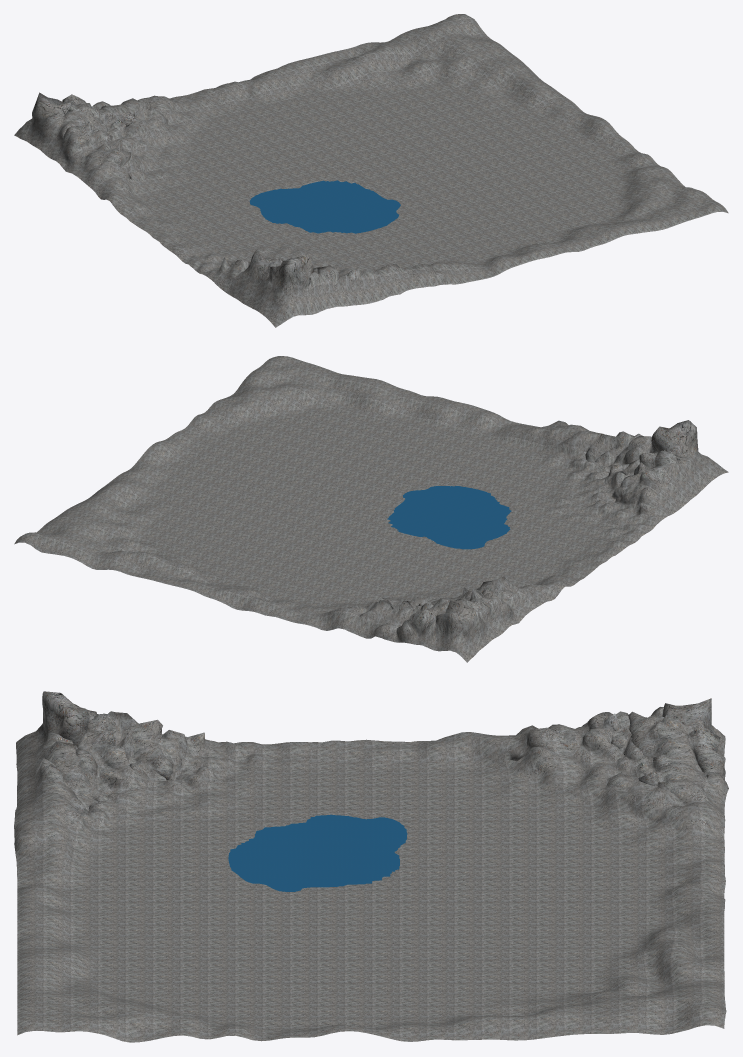
Rendered from ground.obj.
3 views of the same model, one above another, from view 1: azimuth 30°, elevation 25°; view 2: azimuth 150°, elevation 25°; view 3: azimuth 270°, elevation 25° (orthographic). The views are drawn at different scales.
Visible parts, largest first — view 1: ground, Plane; view 2: ground, Plane; view 3: ground, Plane.
Part boxes in pixels (bbox=[...]): ground: bbox=[14, 14, 728, 327]; Plane: bbox=[249, 180, 400, 233]; ground: bbox=[14, 356, 728, 662]; Plane: bbox=[387, 486, 511, 549]; ground: bbox=[14, 691, 728, 1042]; Plane: bbox=[228, 814, 407, 891].
Size of the model in its own units: 41.2 by 4.96 by 41.53.
